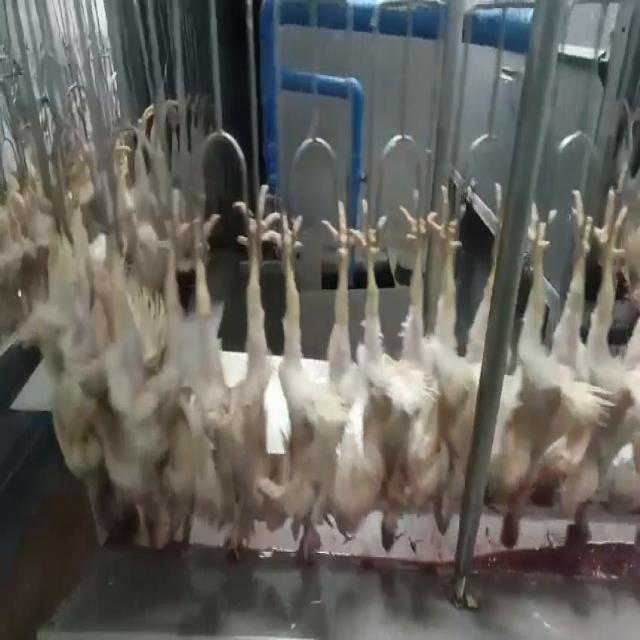chicken: (492, 192, 602, 551), (268, 194, 365, 574), (338, 192, 431, 559), (184, 174, 268, 566), (417, 189, 500, 537), (565, 185, 637, 544), (120, 183, 185, 549)
